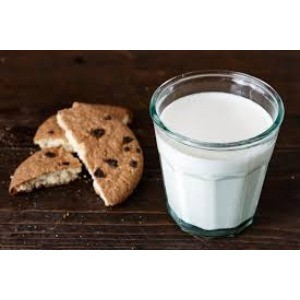milk_brain food: (151, 79, 276, 232)
